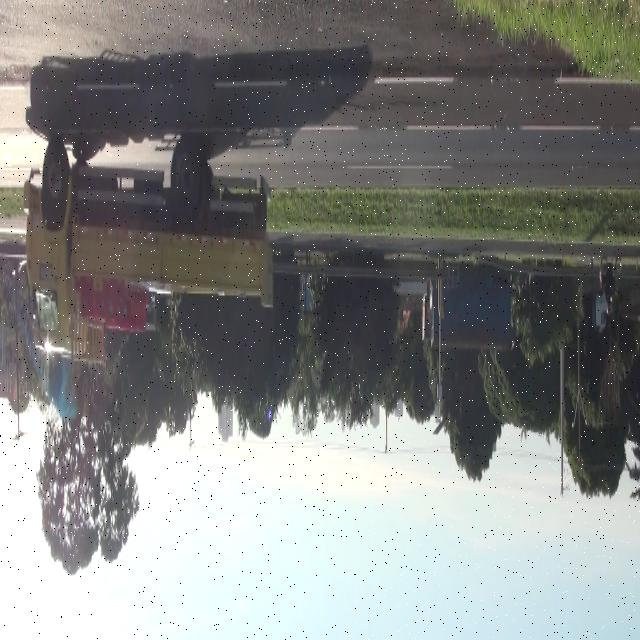-axle: (168, 134, 209, 228), (41, 136, 68, 215)
